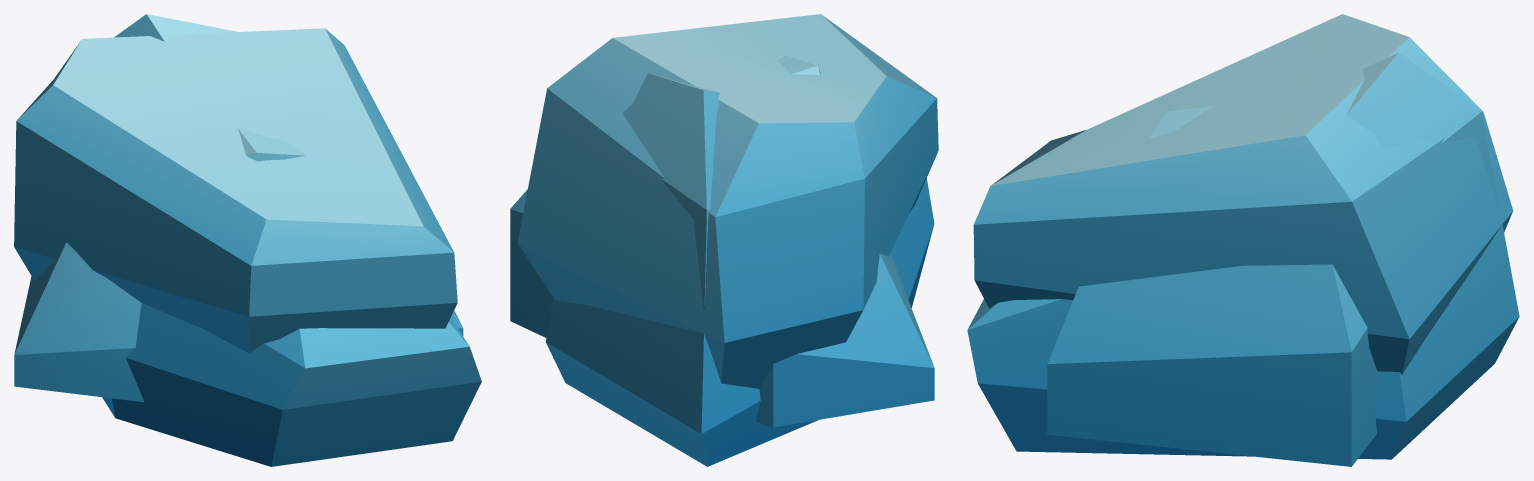
The model's file is SM_IP_Generic_Rocks.FBX.
3 views of the same model, side by side, from view 1: azimuth 30°, elevation 25°; view 2: azimuth 150°, elevation 25°; view 3: azimuth 270°, elevation 25° (orthographic). The views are drawn at different scales.
Visible parts, largest first — view 1: Rocks_Icy (×3); view 2: Rocks_Icy (×3); view 3: Rocks_Icy (×3).
Part boxes in pixels (x1,y1,x2,y2): Rocks_Icy (×3): (14,14,481,466); Rocks_Icy (×3): (510,14,938,466); Rocks_Icy (×3): (967,14,1519,466).
Bounding box in the file's own units: 95.26 × 75.18 × 112.
